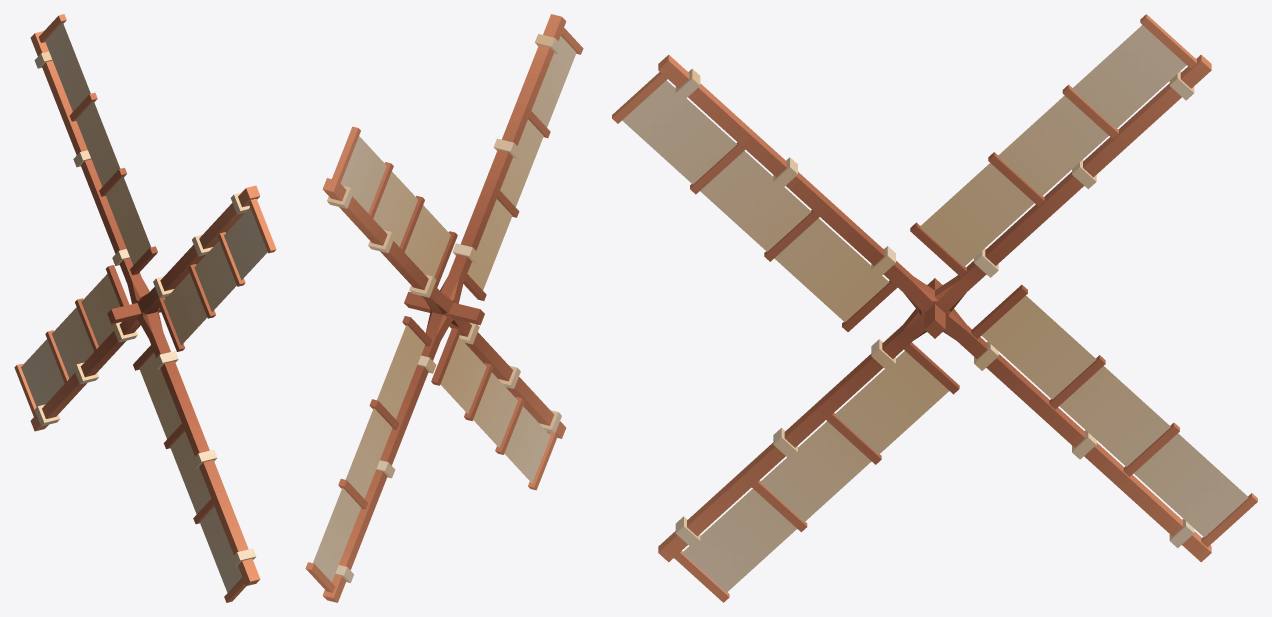
Rendered from windmill.fbx.
3 renders of one model, left to right at view 1: azimuth 30°, elevation 25°; view 2: azimuth 150°, elevation 25°; view 3: azimuth 270°, elevation 25°, orthographic. The views are drawn at different scales.
Visible parts, largest first — view 1: windmill; view 2: windmill; view 3: windmill.
Part boxes in pixels (box(x1,y1,x2,y2)): windmill: box(14, 14, 276, 602); windmill: box(305, 14, 583, 602); windmill: box(612, 14, 1257, 602).
Bounding box in the file's own units: 0.471 × 3.07 × 3.07.
